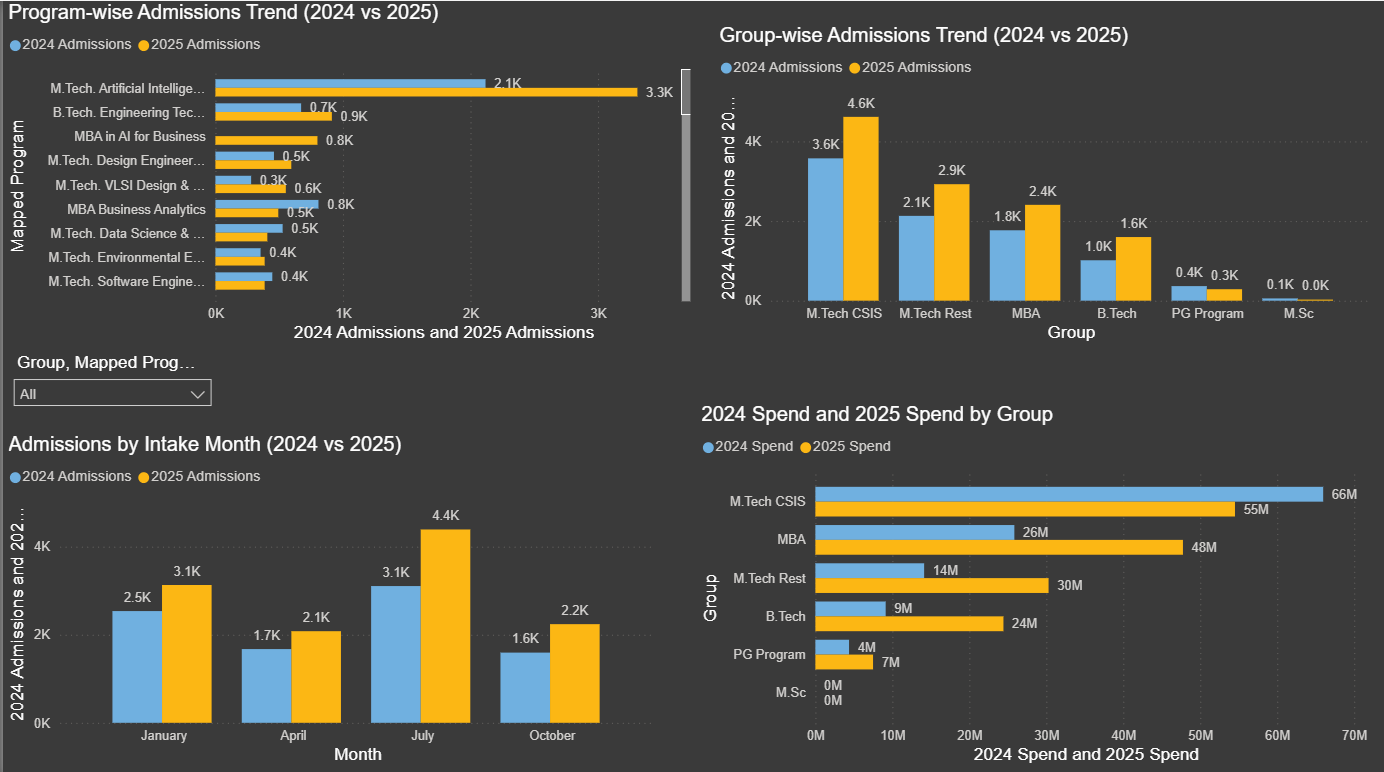

What the dashboard file says about the page in this screenshot:
{"tool":"powerbi","page":{"name":"Year-over-Year Performance Trends (2024 vs 2025)","canvas":[1280,720],"ordinal":1},"visuals":[{"type":"actionButton","box":[0,0,100,40],"z":0},{"type":"clusteredBarChart","title":"Program-wise Admissions Trend (2024 vs 2025)","fields":{"Category":["Fact_ProgramAnalysis.Group Hierarchy.Group","Fact_ProgramAnalysis.Group Hierarchy.Mapped Program"],"Y":["Fact_ProgramAnalysis.2024 Admissions","Fact_ProgramAnalysis.2025 Admissions"]},"box":[0,0,640,319.3],"z":1000},{"type":"slicer","fields":{"Values":["Fact_ProgramAnalysis.Group Hierarchy.Group","Fact_ProgramAnalysis.Group Hierarchy.Mapped Program"]},"box":[0,319.3,202.6,80.2],"z":2000},{"type":"clusteredColumnChart","title":"Group-wise Admissions Trend (2024 vs 2025)","fields":{"Category":["Fact_ProgramAnalysis.Group"],"Y":["Fact_ProgramAnalysis.2024 Admissions","Fact_ProgramAnalysis.2025 Admissions"]},"box":[657.5,20.4,612.3,298.9],"z":3000},{"type":"clusteredColumnChart","title":"Admissions by Intake Month (2024 vs 2025)","fields":{"Category":["Dim_Drive.Drive.Variation.Date Hierarchy.Month"],"Y":["Fact_ProgramAnalysis.2024 Admissions","Fact_ProgramAnalysis.2025 Admissions"]},"box":[0,399.5,607.9,310.5],"z":4000},{"type":"clusteredBarChart","fields":{"Category":["Fact_ProgramAnalysis.Group"],"Y":["Fact_ProgramAnalysis.2024 Spend","Fact_ProgramAnalysis.2025 Spend"]},"box":[640,371.8,628.3,338.2],"z":5000}]}

Visuals, with their boxes in screenshot pixels (x1, y1, x2, y2), scaled from the page's 1280x720 canvas onto the 1384x772 screenshot:
actionButton: locate(0, 0, 108, 43)
"Program-wise Admissions Trend (2024 vs 2025)" clusteredBarChart: locate(0, 0, 692, 342)
slicer - Fact_ProgramAnalysis.Group Hierarchy.Group x Fact_ProgramAnalysis.Group Hierarchy.Mapped Program: locate(0, 342, 219, 428)
"Group-wise Admissions Trend (2024 vs 2025)" clusteredColumnChart: locate(711, 22, 1373, 342)
"Admissions by Intake Month (2024 vs 2025)" clusteredColumnChart: locate(0, 428, 657, 761)
clusteredBarChart - Fact_ProgramAnalysis.Group x Fact_ProgramAnalysis.2024 Spend: locate(692, 399, 1371, 761)
